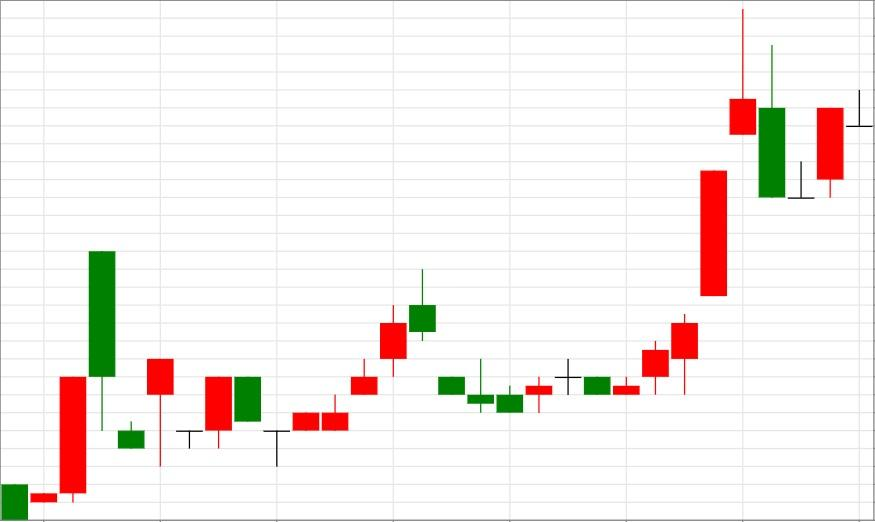shooting_star_fall: (584, 9, 758, 396)
three_white_soldiers_rise: (147, 305, 408, 467)
